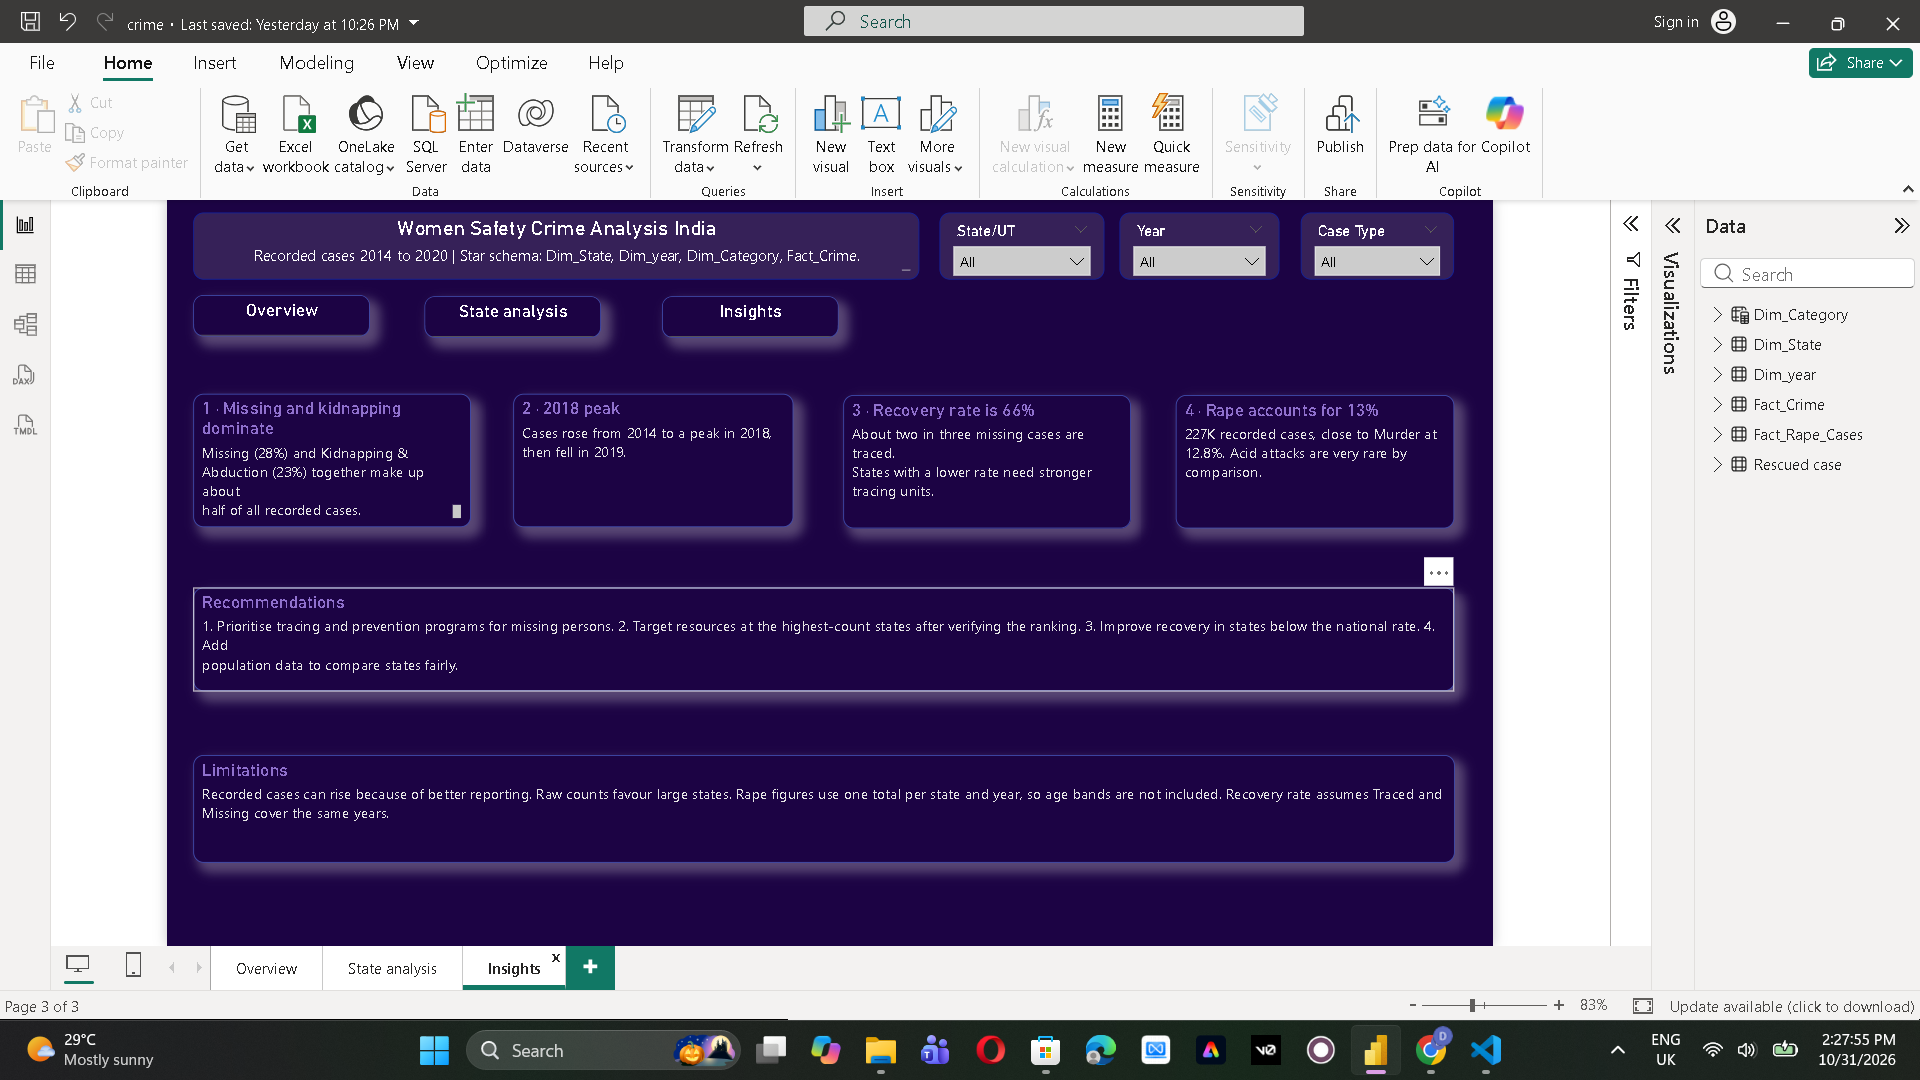

The page's visual inventory and layout, read from the dashboard file:
{"tool":"powerbi","page":{"name":"Insights","canvas":[1280,720],"ordinal":2},"visuals":[{"type":"textbox","title":"Women Safety Crime Analysis India  ","box":[25.3,12.1,700.9,65.1],"z":0},{"type":"slicer","fields":{"Values":["Dim_State.State/UT"]},"box":[745.6,12.1,159.3,65.1],"z":1000},{"type":"slicer","fields":{"Values":["Dim_year.Years"]},"box":[919.3,12.1,154.4,65.1],"z":2000},{"type":"slicer","fields":{"Values":["Dim_Category.Category"]},"box":[1094.2,12.1,148.4,65.1],"z":3000},{"type":"textbox","title":"1 · Missing and kidnapping dominate","box":[25.3,187,267.8,129.1],"z":4000},{"type":"textbox","title":"2 · 2018 peak","box":[334.2,187,270.2,129.1],"z":5000},{"type":"textbox","title":"3 · Recovery rate is 66%","box":[652.7,188.2,277.5,129.1],"z":6000},{"type":"textbox","title":"4 · Rape accounts for 13%","box":[973.6,188.2,269,129.1],"z":7000},{"type":"textbox","title":"Recommendations","box":[25.3,374,1217.3,100.1],"z":8000},{"type":"textbox","title":"Limitations","box":[25.3,535.7,1217.3,103.8],"z":9000},{"type":"actionButton","title":"Overview","box":[25.3,91.7,170.1,39.8],"z":10000},{"type":"actionButton","title":"Insights","box":[477.8,92.9,170.1,39.8],"z":11000},{"type":"actionButton","title":"State analysis","box":[248.5,92.9,170.1,39.8],"z":12000}]}

Visuals, with their boxes on the page's 1280x720 design canvas (x1, y1, x2, y2). These are canvas units, not pixel positions in the 1920x1080 screenshot, which may show the page scaled, cropped or inside an application window:
"Women Safety Crime Analysis India  " textbox: (25, 12, 726, 77)
slicer - Dim_State.State/UT: (746, 12, 905, 77)
slicer - Dim_year.Years: (919, 12, 1074, 77)
slicer - Dim_Category.Category: (1094, 12, 1243, 77)
"1 · Missing and kidnapping dominate" textbox: (25, 187, 293, 316)
"2 · 2018 peak" textbox: (334, 187, 604, 316)
"3 · Recovery rate is 66%" textbox: (653, 188, 930, 317)
"4 · Rape accounts for 13%" textbox: (974, 188, 1243, 317)
"Recommendations" textbox: (25, 374, 1243, 474)
"Limitations" textbox: (25, 536, 1243, 640)
"Overview" actionButton: (25, 92, 195, 132)
"Insights" actionButton: (478, 93, 648, 133)
"State analysis" actionButton: (248, 93, 419, 133)
